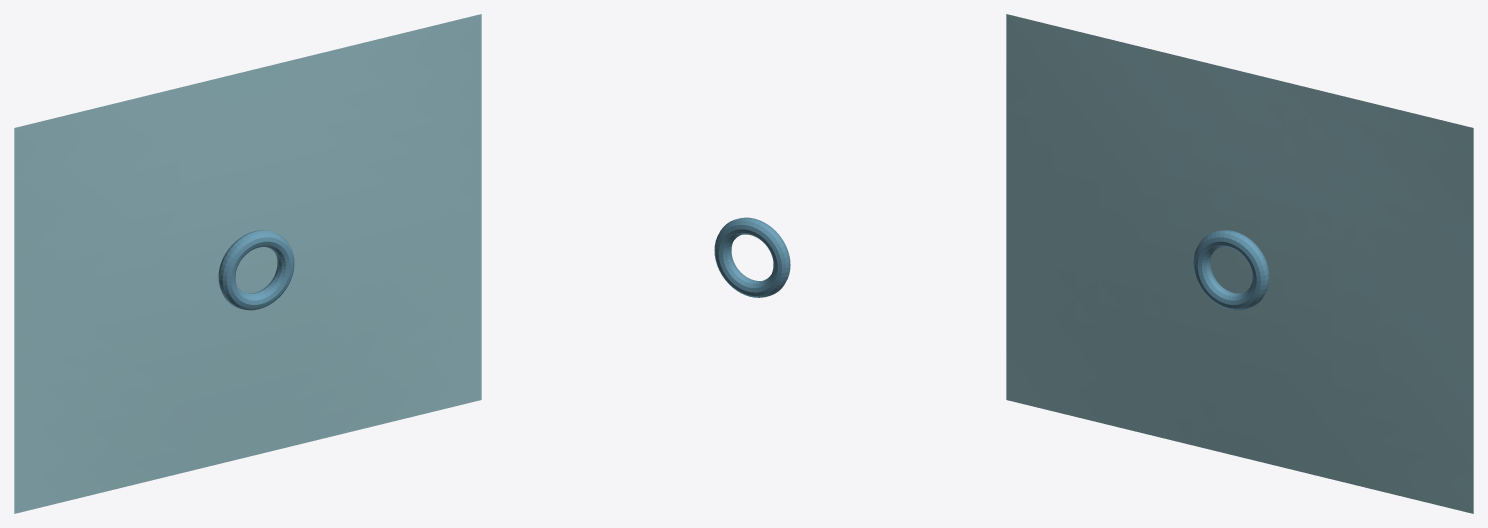
The model's file is dranmar_rescue_film_sealed.glb.
3 views of the same model, side by side, from view 1: azimuth 30°, elevation 25°; view 2: azimuth 150°, elevation 25°; view 3: azimuth 330°, elevation 25° (orthographic).
Parts seen in each view (by area): view 1: Film, Port; view 2: Port; view 3: Film, Port.
Boxes of the visible parts, bbox=[...] form: Film: bbox=[14, 14, 481, 513]; Port: bbox=[218, 230, 294, 310]; Port: bbox=[714, 217, 790, 297]; Film: bbox=[1006, 14, 1473, 513]; Port: bbox=[1193, 230, 1269, 310].
Size of the model in its own units: 0.19 by 0.15 by 0.009.
